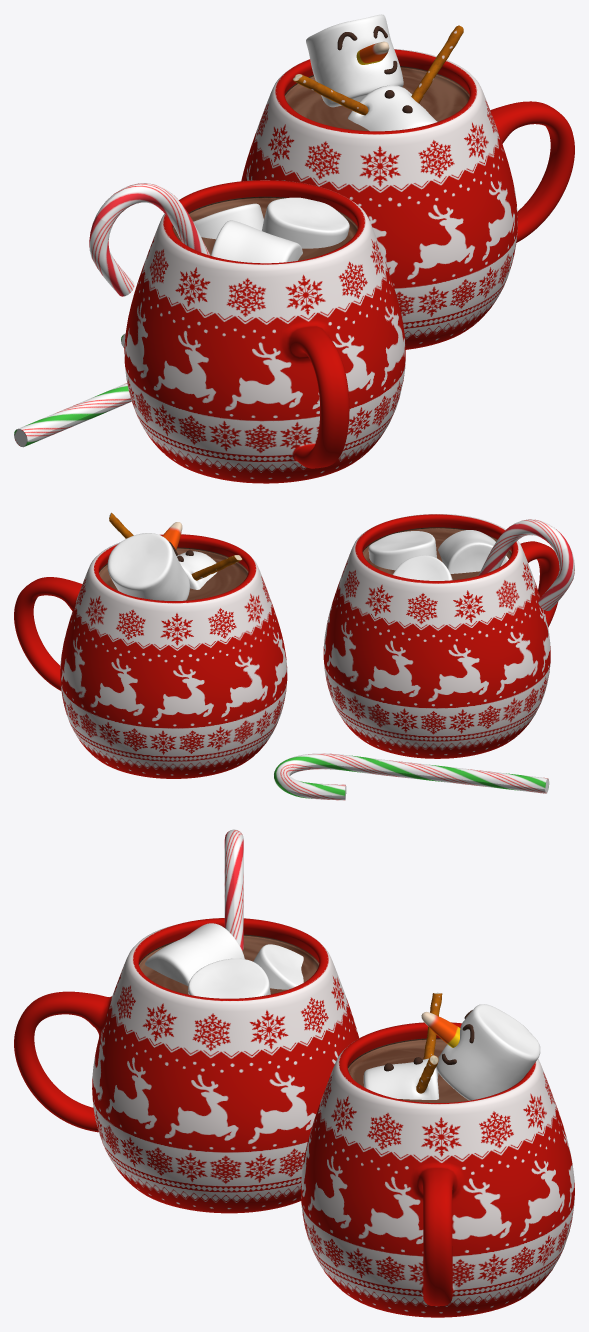
The picture shows the model from 3 angles, top to bottom: view 1: azimuth 30°, elevation 25°; view 2: azimuth 150°, elevation 25°; view 3: azimuth 270°, elevation 25°; orthographic projection. The views are drawn at different scales.
Parts seen in each view (by area): view 1: Line004_Mug_0, Line001_Mug_0, Cylinder36670, Loft004, Object004_Hot Chocolate_0, Cylinder36676, Cylinder36678, sculpted_mallows, Loft005, Object005_Hot Chocolate_0, Cylinder36677, Cylinder36668 (+1 smaller); view 2: Line001_Mug_0, Line004_Mug_0, Loft005, Cylinder36670, Loft004, Cylinder36678, Cylinder36676, Object004_Hot Chocolate_0, Cylinder36677, Object005_Hot Chocolate_0, sculpted_mallows, Cylinder36673; view 3: Line004_Mug_0, Line001_Mug_0, Cylinder36670, Cylinder36678, Cylinder36676, Object004_Hot Chocolate_0, Loft004, sculpted_mallows, Object005_Hot Chocolate_0, Cylinder36677, Box002.
Boxes of the visible parts, x1,y1,x2,y2 form: Line004_Mug_0: (124,180,405,483); Line001_Mug_0: (241,49,574,349); Cylinder36670: (306,14,403,107); Loft004: (89,183,210,296); Object004_Hot Chocolate_0: (284,66,469,131); Cylinder36676: (262,197,349,248); Cylinder36678: (211,220,302,263); sculpted_mallows: (348,85,437,131); Loft005: (14,333,131,447); Object005_Hot Chocolate_0: (172,196,357,260); Cylinder36677: (193,203,263,239); Cylinder36668: (411,25,463,103); Line001_Mug_0: (14,534,287,778); Line004_Mug_0: (323,514,559,758); Loft005: (274,753,549,800); Cylinder36670: (107,533,189,600); Loft004: (478,519,574,610); Cylinder36678: (438,530,508,573); Cylinder36676: (368,531,436,570); Object004_Hot Chocolate_0: (99,547,248,600); Cylinder36677: (392,555,452,580); Object005_Hot Chocolate_0: (362,527,511,580); sculpted_mallows: (176,551,216,589); Cylinder36673: (191,555,242,580); Line004_Mug_0: (14,918,358,1213); Line001_Mug_0: (300,1022,574,1317); Cylinder36670: (436,1004,540,1100); Cylinder36678: (145,923,244,985); Cylinder36676: (188,958,270,998); Object004_Hot Chocolate_0: (347,1038,468,1102); Loft004: (224,829,243,950); sculpted_mallows: (363,1058,438,1099); Object005_Hot Chocolate_0: (138,934,319,994); Cylinder36677: (253,944,303,989); Box002: (421,1012,460,1047).
Bounding box in the file's own units: 0.2761 × 0.1238 × 0.2275.
8 materials, 6 textured.
